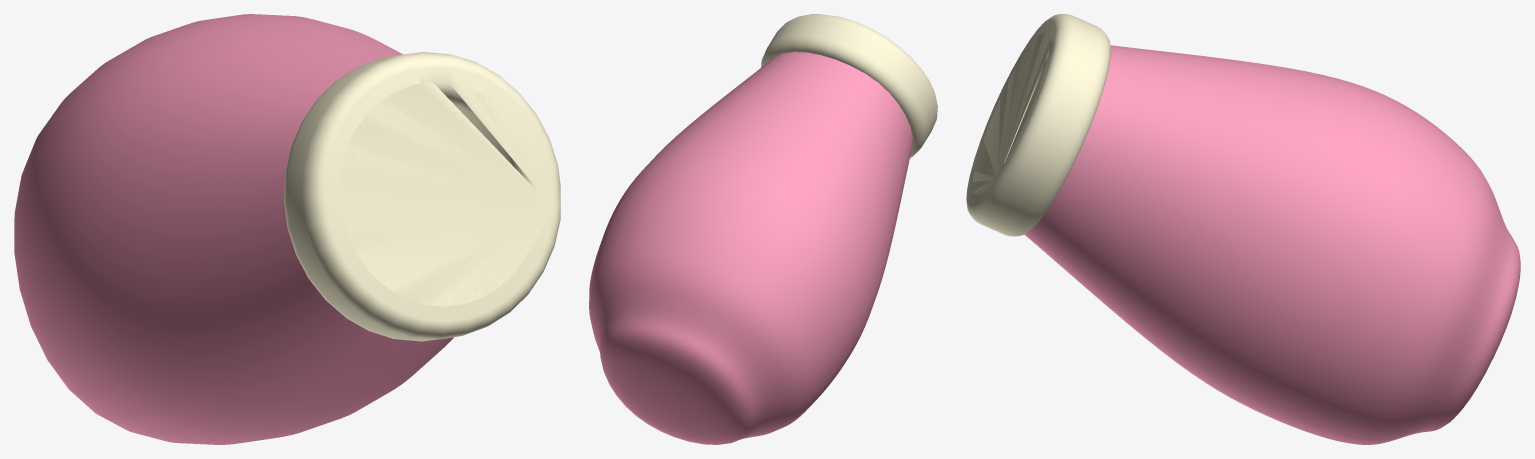
Rendered from cannon_gövde.fbx.
3 views of the same model, side by side, from view 1: azimuth 30°, elevation 25°; view 2: azimuth 150°, elevation 25°; view 3: azimuth 270°, elevation 25° (orthographic). The views are drawn at different scales.
Visible parts, largest first — view 1: Cylinder.001; view 2: Cylinder.001; view 3: Cylinder.001.
Boxes of the visible parts, x1,y1,x2,y2 form: Cylinder.001: [14, 14, 560, 444]; Cylinder.001: [589, 14, 937, 444]; Cylinder.001: [966, 14, 1520, 444].
Bounding box in the file's own units: 252 × 333 × 415.
